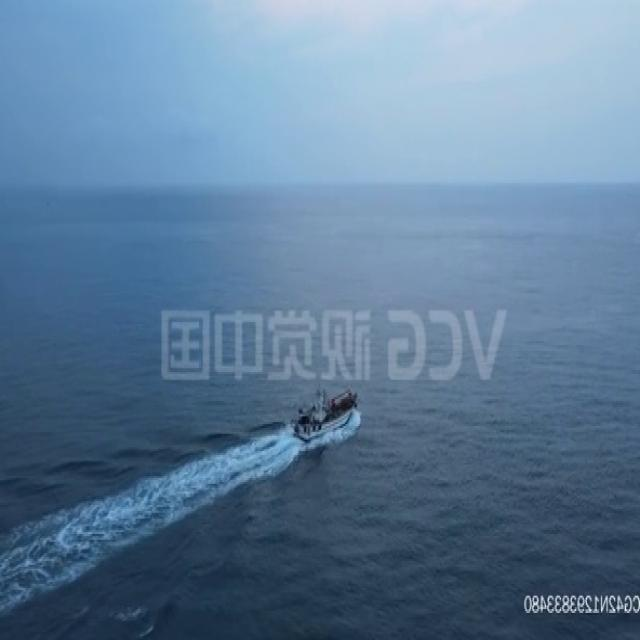houseboat: (293, 382, 358, 438)
